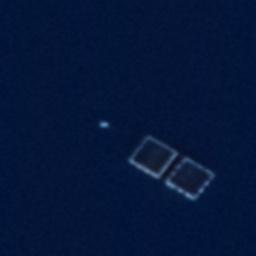square_solid: (123, 131, 183, 185), (159, 153, 220, 206)
